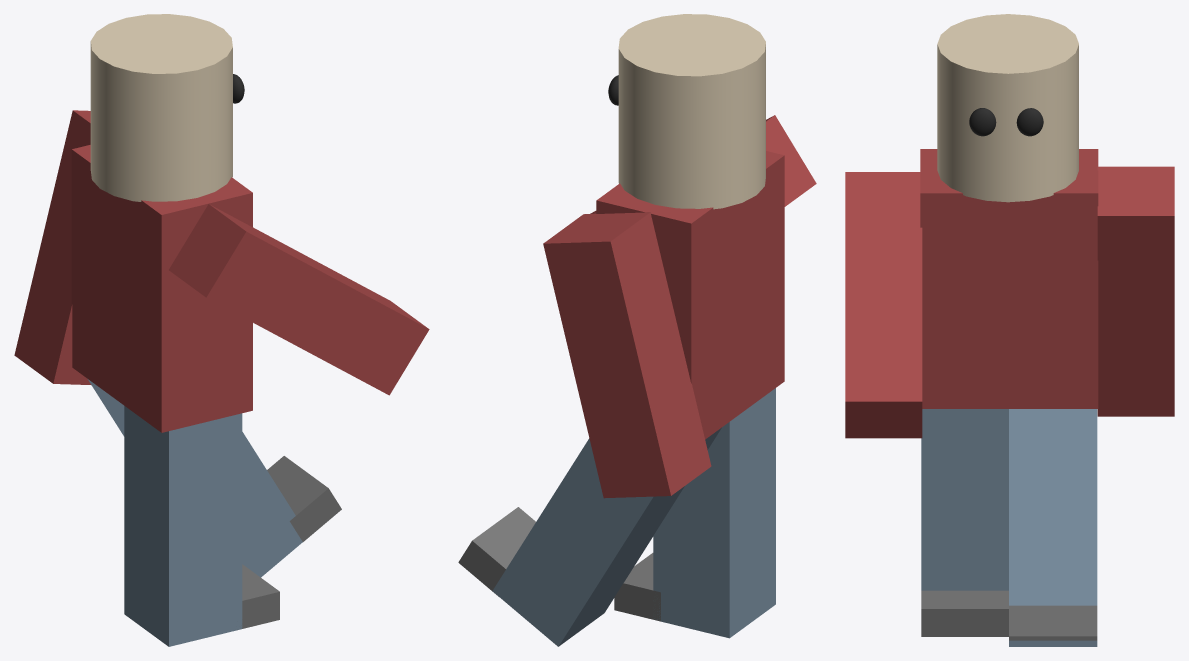
File: Pedestrian.fbx
The picture shows the model from 3 angles, left to right: view 1: azimuth 30°, elevation 25°; view 2: azimuth 150°, elevation 25°; view 3: azimuth 270°, elevation 25°; orthographic projection. The views are drawn at different scales.
Visible parts, largest first — view 1: pCube10; view 2: pCube10; view 3: pCube10.
Part boxes in pixels (left/top/right/bottom): pCube10: left=14, top=14, right=429, bottom=646; pCube10: left=458, top=14, right=816, bottom=646; pCube10: left=845, top=14, right=1174, bottom=646.
Bounding box in the file's own units: 2.34 × 5.09 × 2.7.
